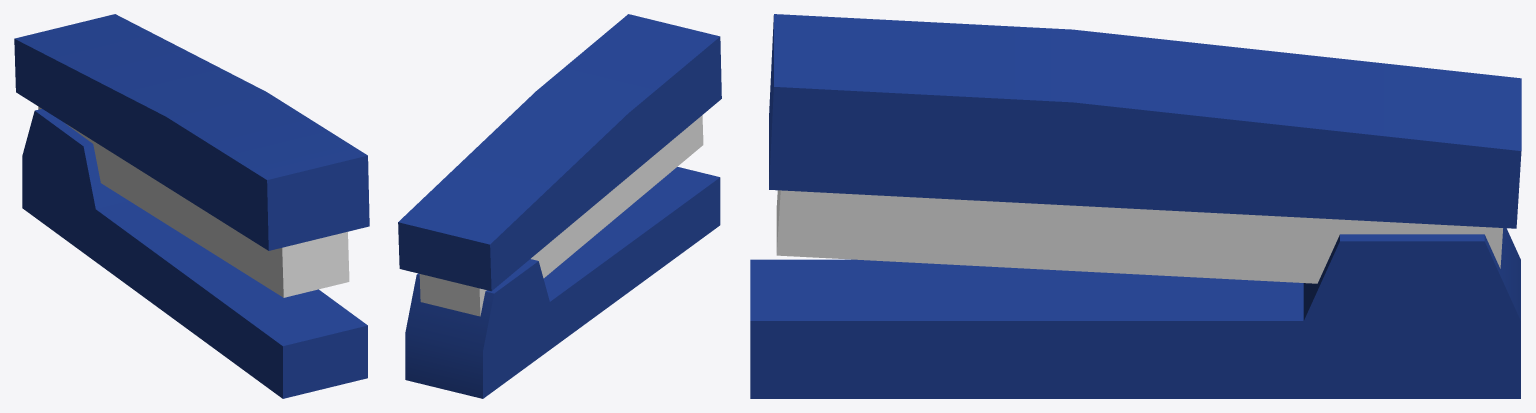
Rendered from Asset_Stapler.fbx.
The picture shows the model from 3 angles, left to right: view 1: azimuth 30°, elevation 25°; view 2: azimuth 150°, elevation 25°; view 3: azimuth 270°, elevation 25°; orthographic projection. The views are drawn at different scales.
Parts seen in each view (by area): view 1: Asset_Stapler; view 2: Asset_Stapler; view 3: Asset_Stapler.
Part boxes in pixels (bbox=[...]): Asset_Stapler: bbox=[14, 14, 369, 398]; Asset_Stapler: bbox=[398, 14, 721, 398]; Asset_Stapler: bbox=[750, 14, 1521, 398].
Size of the model in its own units: 6.6 by 13.44 by 29.54.
